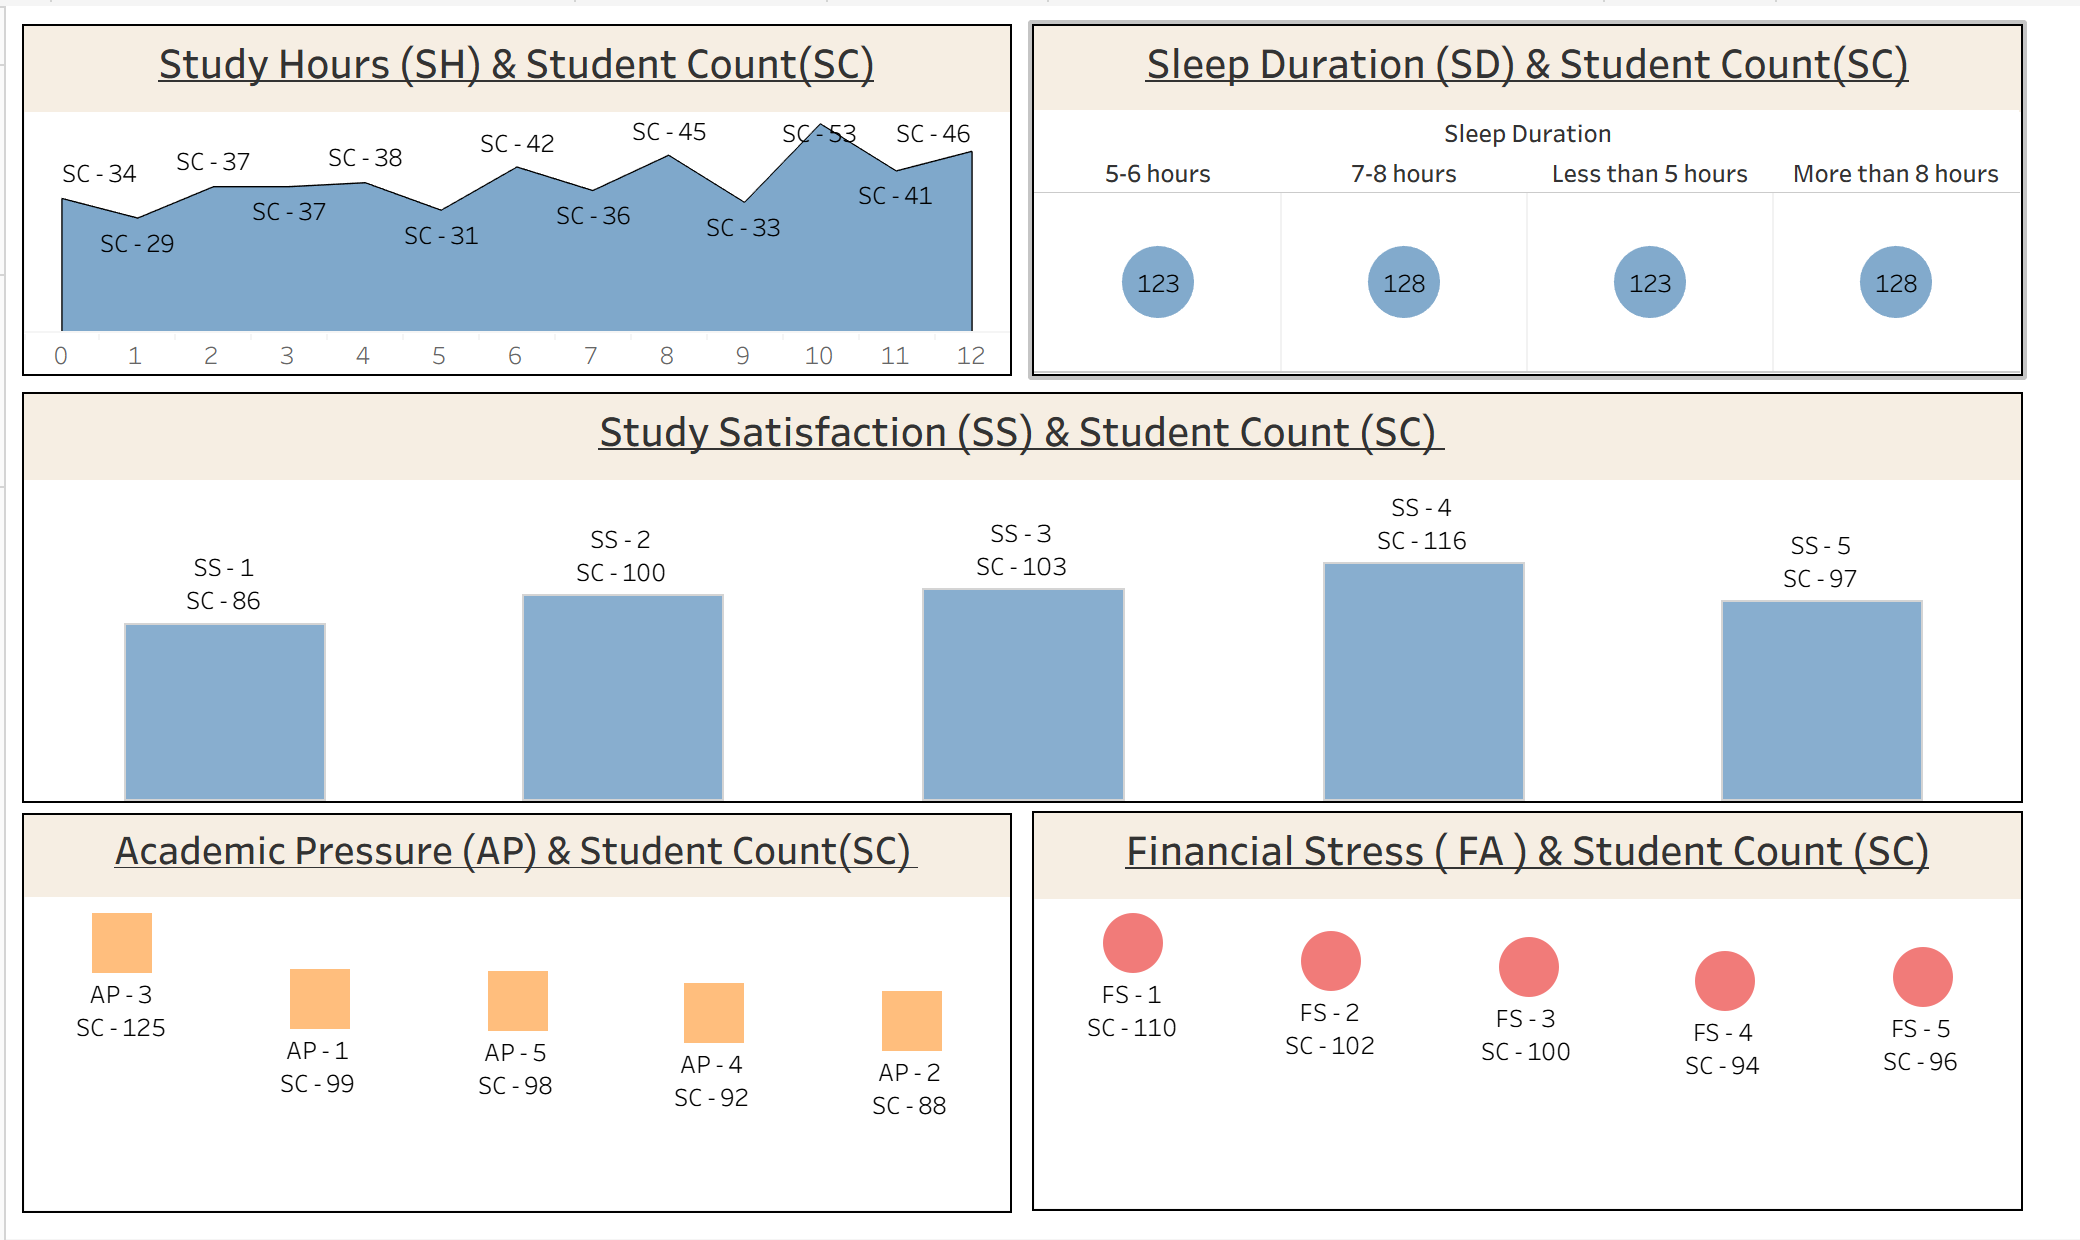

The page's visual inventory and layout, read from the dashboard file:
{"tool":"tableau","page":{"name":"Student Count Analysis","canvas":[1069,616],"ordinal":0},"visuals":[{"type":"worksheet","title":"SH & SC ","mark":"Area","rows":["index_column"],"cols":["Study_Hours"],"box":[8,9,495,176]},{"type":"worksheet","title":"SD & SC","mark":"Pie","cols":["Sleep_Duration"],"box":[513,9,495,176]},{"type":"worksheet","title":"SS & SC","mark":"Automatic","rows":["index_column"],"cols":["Study_Satisfaction"],"box":[8,193,1000,205]},{"type":"worksheet","title":"FS & SC","mark":"Circle","rows":["index_column"],"cols":["Financial_Stress"],"box":[513,402,495,200]},{"type":"worksheet","title":"AP & SC ","mark":"Square","rows":["index_column"],"cols":["Academic_Pressure"],"box":[8,403,495,200]}]}

Visuals, with their boxes in screenshot pixels (x1, y1, x2, y2):
"SH & SC " worksheet (Area marks): [21,23,1006,373]
"SD & SC" worksheet (Pie marks): [1026,23,2011,373]
"SS & SC" worksheet: [21,389,2011,797]
"FS & SC" worksheet (Circle marks): [1026,805,2011,1203]
"AP & SC " worksheet (Square marks): [21,807,1006,1205]
